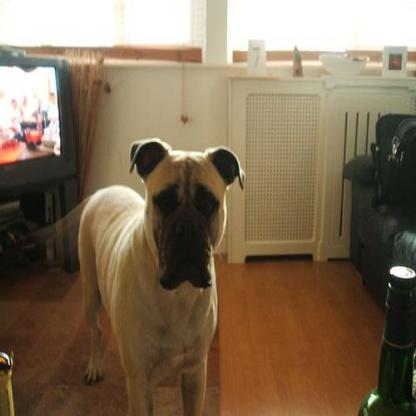bull_mastiff: (76, 135, 244, 414)
